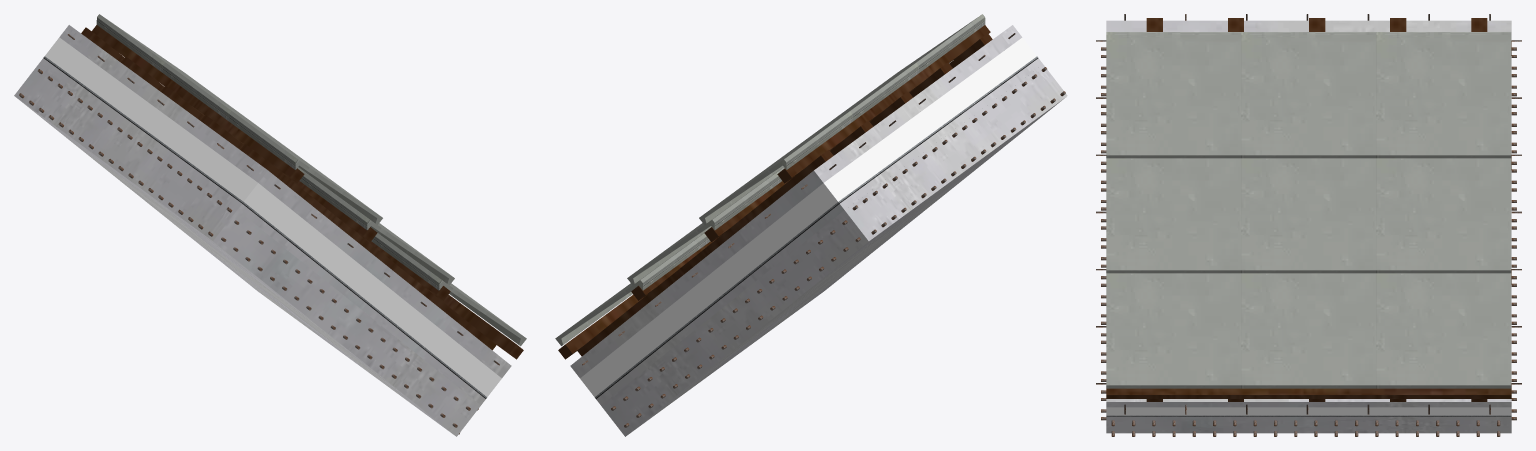
The model's file is sloped-roof.glb.
3 renders of one model, left to right at view 1: azimuth 30°, elevation 25°; view 2: azimuth 150°, elevation 25°; view 3: azimuth 270°, elevation 25°, orthographic.
Parts seen in each view (by area): view 1: 钢筋混凝土屋面板, 60厚聚苯乙烯保温板, 40厚细石混凝土捣实压光配双向单层4钢筋，, 彩色水泥瓦, 30*30木质挂瓦条并做防腐处理, 20厚1：2.5水泥砂浆找平, 40*20木质顺水条并做防腐处理, 4厚SBS防水卷材, 涂沥青冷底子油一道; view 2: 钢筋混凝土屋面板, 60厚聚苯乙烯保温板, 40厚细石混凝土捣实压光配双向单层4钢筋，, 彩色水泥瓦, 20厚1：2.5水泥砂浆找平, 30*30木质挂瓦条并做防腐处理, 40*20木质顺水条并做防腐处理, 4厚SBS防水卷材, 涂沥青冷底子油一道; view 3: 彩色水泥瓦, 40厚细石混凝土捣实压光配双向单层4钢筋，, 钢筋混凝土屋面板, 30*30木质挂瓦条并做防腐处理, 60厚聚苯乙烯保温板, 20厚1：2.5水泥砂浆找平, 40*20木质顺水条并做防腐处理, 4厚SBS防水卷材.
Boxes of the visible parts, left/top/right/bottom form: 钢筋混凝土屋面板: left=14, top=64, right=480, bottom=436; 60厚聚苯乙烯保温板: left=45, top=37, right=501, bottom=397; 40厚细石混凝土捣实压光配双向单层4钢筋，: left=59, top=25, right=511, bottom=377; 彩色水泥瓦: left=96, top=14, right=526, bottom=346; 30*30木质挂瓦条并做防腐处理: left=91, top=25, right=523, bottom=359; 20厚1：2.5水泥砂浆找平: left=38, top=58, right=485, bottom=404; 40*20木质顺水条并做防腐处理: left=81, top=27, right=496, bottom=350; 4厚SBS防水卷材: left=44, top=56, right=486, bottom=398; 涂沥青冷底子油一道: left=43, top=57, right=486, bottom=398; 钢筋混凝土屋面板: left=601, top=64, right=1067, bottom=436; 60厚聚苯乙烯保温板: left=580, top=37, right=1036, bottom=397; 40厚细石混凝土捣实压光配双向单层4钢筋，: left=570, top=25, right=1022, bottom=377; 彩色水泥瓦: left=555, top=14, right=985, bottom=345; 20厚1：2.5水泥砂浆找平: left=596, top=58, right=1043, bottom=404; 30*30木质挂瓦条并做防腐处理: left=558, top=25, right=990, bottom=359; 40*20木质顺水条并做防腐处理: left=577, top=33, right=992, bottom=356; 4厚SBS防水卷材: left=595, top=56, right=1037, bottom=398; 涂沥青冷底子油一道: left=595, top=58, right=1038, bottom=398; 彩色水泥瓦: left=1106, top=32, right=1511, bottom=388; 40厚细石混凝土捣实压光配双向单层4钢筋，: left=1096, top=14, right=1521, bottom=414; 钢筋混凝土屋面板: left=1101, top=47, right=1516, bottom=436; 30*30木质挂瓦条并做防腐处理: left=1106, top=41, right=1511, bottom=398; 60厚聚苯乙烯保温板: left=1106, top=407, right=1511, bottom=415; 20厚1：2.5水泥砂浆找平: left=1106, top=416, right=1511, bottom=419; 40*20木质顺水条并做防腐处理: left=1146, top=18, right=1487, bottom=401; 4厚SBS防水卷材: left=1106, top=415, right=1511, bottom=416.
Size of the model in its own units: 0.915 by 0.8849 by 1.05.
Materials: 10 (9 with a texture image).
